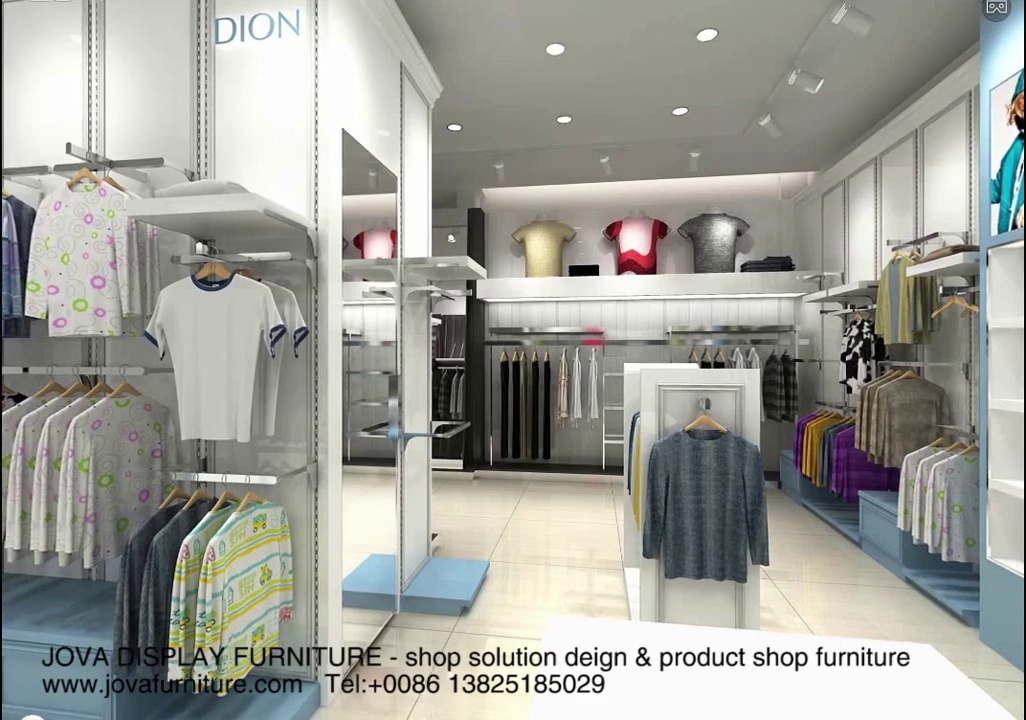grey shirt: (639, 423, 768, 593)
white shirt: (154, 280, 304, 449)
white shirt 2: (18, 418, 123, 555), (31, 186, 126, 337), (912, 458, 976, 559)
white shirt 3: (181, 525, 284, 639)
